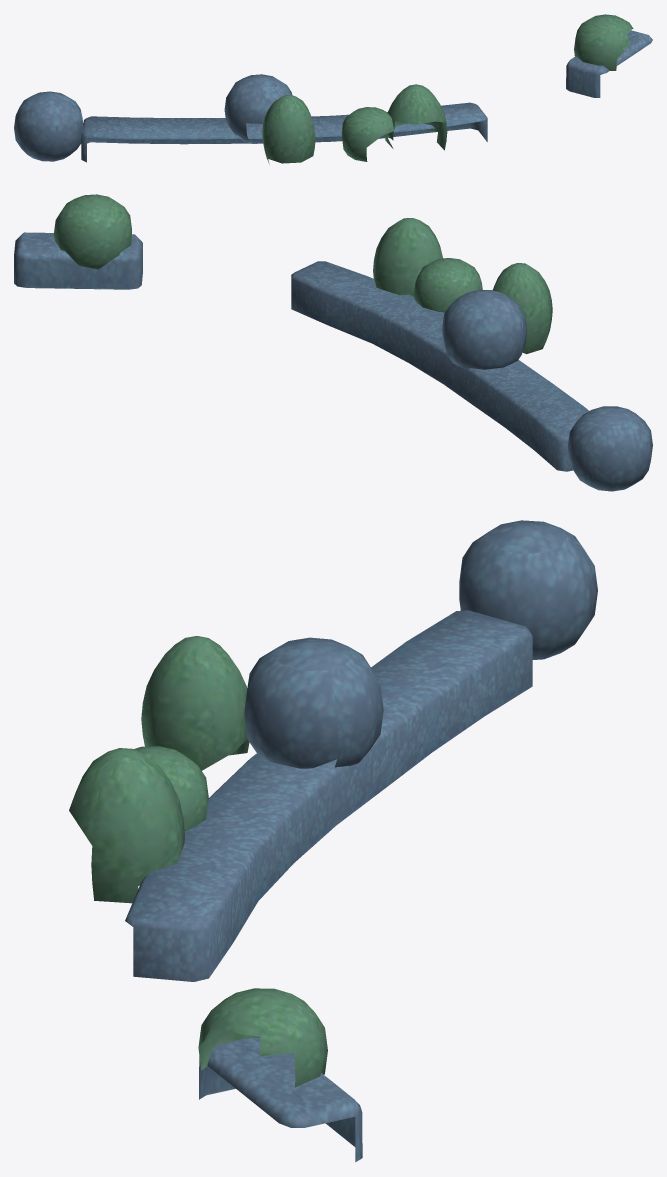
The model's file is pref_sm_beach_bk_winter_pointmol_longplant_R03_lv0.fbx.
3 renders of one model, top to bottom at view 1: azimuth 30°, elevation 25°; view 2: azimuth 150°, elevation 25°; view 3: azimuth 270°, elevation 25°, orthographic. The views are drawn at different scales.
Visible parts, largest first — view 1: pref_sm_beach_bk_winter_pointmol_longplant_R03_lv0; view 2: pref_sm_beach_bk_winter_pointmol_longplant_R03_lv0; view 3: pref_sm_beach_bk_winter_pointmol_longplant_R03_lv0.
Boxes of the visible parts, box(x1,y1,x2,y2) form: pref_sm_beach_bk_winter_pointmol_longplant_R03_lv0: box(14, 14, 652, 164); pref_sm_beach_bk_winter_pointmol_longplant_R03_lv0: box(14, 194, 652, 491); pref_sm_beach_bk_winter_pointmol_longplant_R03_lv0: box(69, 520, 597, 1162).
Size of the model in its own units: 29.73 by 4.31 by 11.84.
